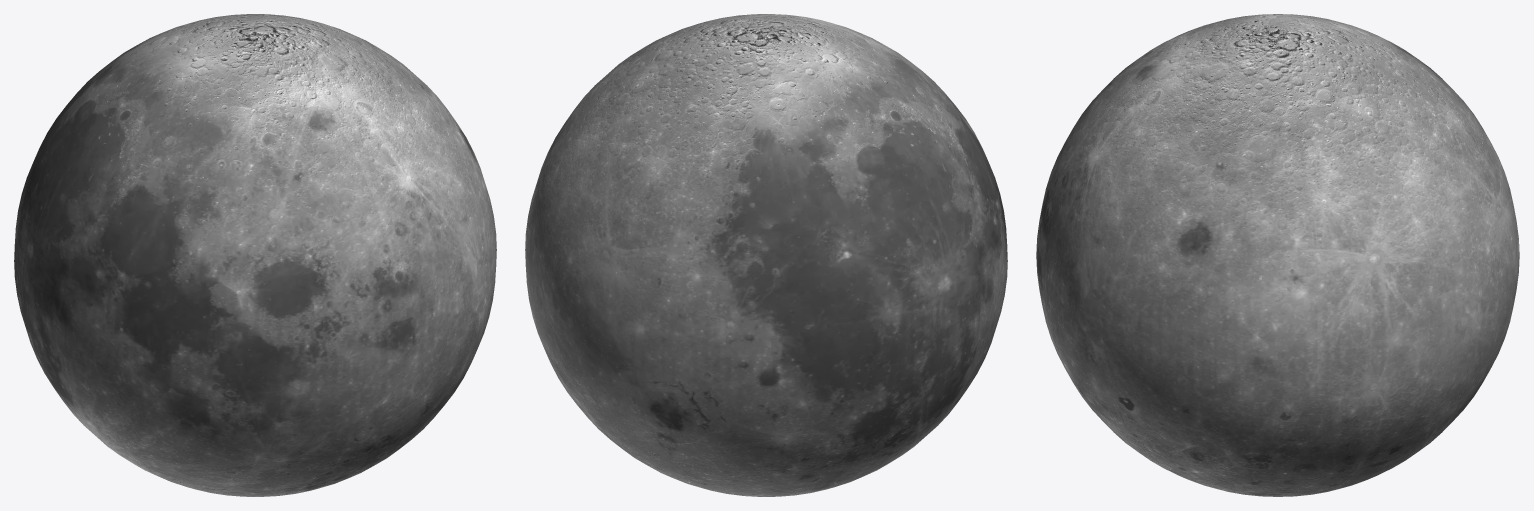
The model's file is moon.glb.
3 renders of one model, left to right at view 1: azimuth 30°, elevation 25°; view 2: azimuth 150°, elevation 25°; view 3: azimuth 270°, elevation 25°, orthographic.
Visible parts, largest first — view 1: earth_moon; view 2: earth_moon; view 3: earth_moon.
Part boxes in pixels (left/top/right/bottom): earth_moon: left=14, top=14, right=496, bottom=496; earth_moon: left=525, top=14, right=1007, bottom=496; earth_moon: left=1036, top=14, right=1519, bottom=496.
Size of the model in its own units: 6.04 by 6.04 by 6.04.
1 material, 1 textured.
